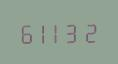one: (34, 20, 49, 44), (50, 20, 65, 43)
six: (18, 20, 33, 44)
three: (66, 19, 81, 43)
two: (82, 19, 97, 43)
